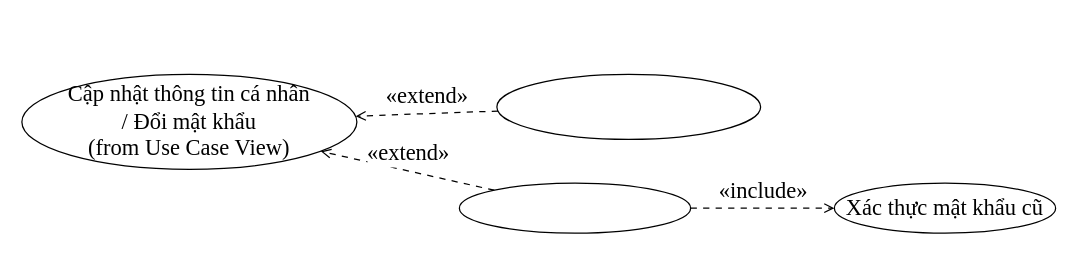
This 1078x255 diagram has some shape labels left out. Each missing label, with the centre of its shape:
"Chỉnh sửa thông tin (Họ tên, SĐT, Email)" belongs at [628,106].
"Cập nhật mật khẩu mới" belongs at [574,207].
